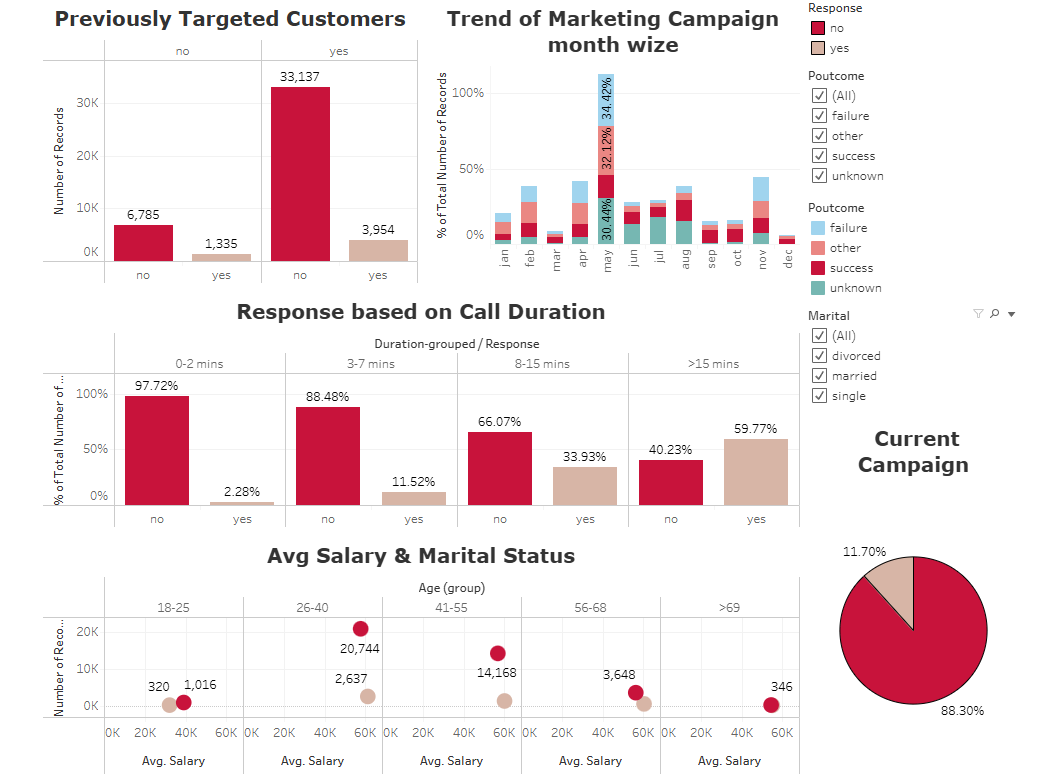

Layout of this report page (visuals, bound fields, positions):
{"tool":"tableau","page":{"name":"Dashboard 6","canvas":[1000,800],"ordinal":0},"visuals":[{"type":"worksheet","title":"Customer respond based on previously targeted or not","mark":"Automatic","rows":["Number of Records"],"cols":["targeted","response"],"box":[8,8,382.5,293]},{"type":"worksheet","title":"Trend of Marketing Campaign month wize","mark":"Automatic","cols":["month"],"box":[390.5,8,382.5,293]},{"type":"legend","title":"Response turnout to the Campaign","param":"[federated.16b4l9v19oirxa11chxgu1q5xi05].[none:response:nk]","box":[773,8,219,72]},{"type":"filter","title":"Trend of Marketing Campaign month wize","param":"[federated.16b4l9v19oirxa11chxgu1q5xi05].[none:poutcome:nk]","box":[773,80,219,151]},{"type":"legend","title":"Trend of Marketing Campaign month wize","param":"[federated.16b4l9v19oirxa11chxgu1q5xi05].[none:poutcome:nk]","box":[773,231,219,114]},{"type":"worksheet","title":"Response based on Call Duration","mark":"Automatic","cols":["response"],"box":[8,301,765,244]},{"type":"filter","title":"Response based on Avg salary, and Marital staus filtered on Age","param":"[federated.16b4l9v19oirxa11chxgu1q5xi05].[none:marital:nk]","box":[773,345,219,128]},{"type":"worksheet","title":"Response turnout to the Campaign","mark":"Pie","box":[773,473,219,319]},{"type":"worksheet","title":"Response based on Avg salary, and Marital staus filtered on Age","mark":"Automatic","rows":["Number of Records"],"cols":["salary"],"box":[8,545,765,247]}]}

Visuals, with their boxes on the page's 1000x800 design canvas (x1, y1, x2, y2). These are canvas units, not pixel positions in the 1037x781 screenshot, which may show the page scaled, cropped or inside an application window:
"Customer respond based on previously targeted or not" worksheet: (8, 8, 390, 301)
"Trend of Marketing Campaign month wize" worksheet: (390, 8, 773, 301)
"Response turnout to the Campaign" legend: (773, 8, 992, 80)
"Trend of Marketing Campaign month wize" filter: (773, 80, 992, 231)
"Trend of Marketing Campaign month wize" legend: (773, 231, 992, 345)
"Response based on Call Duration" worksheet: (8, 301, 773, 545)
"Response based on Avg salary, and Marital staus filtered on Age" filter: (773, 345, 992, 473)
"Response turnout to the Campaign" worksheet (Pie marks): (773, 473, 992, 792)
"Response based on Avg salary, and Marital staus filtered on Age" worksheet: (8, 545, 773, 792)
